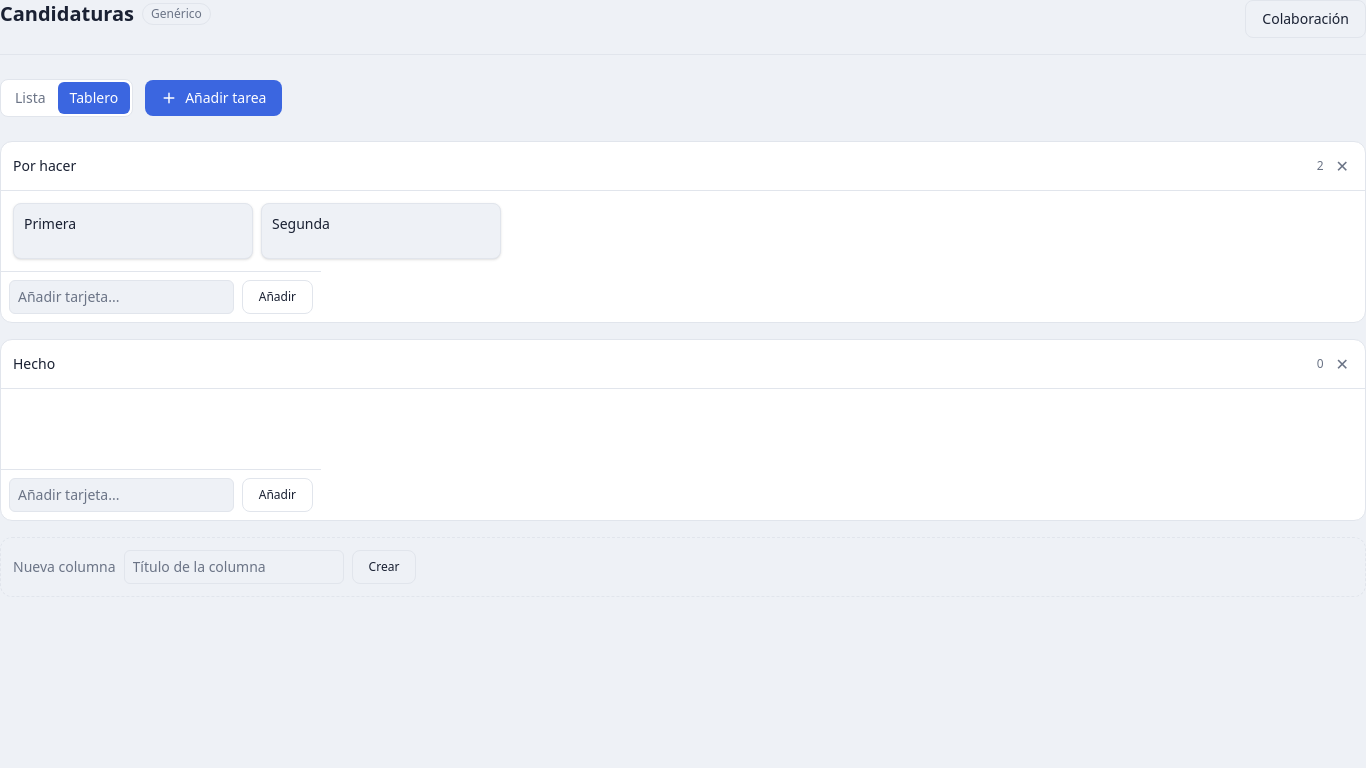
Test: BoardPage › borra una columna con confirmación, avisando de las tarjetas que se pierden
Check: the button "Por hacer" is shown, box left=13, top=156, right=1309, bottom=176
Click the button named "Borrar columna Por hacer": [1342, 166] box left=1332, top=150, right=1353, bottom=182
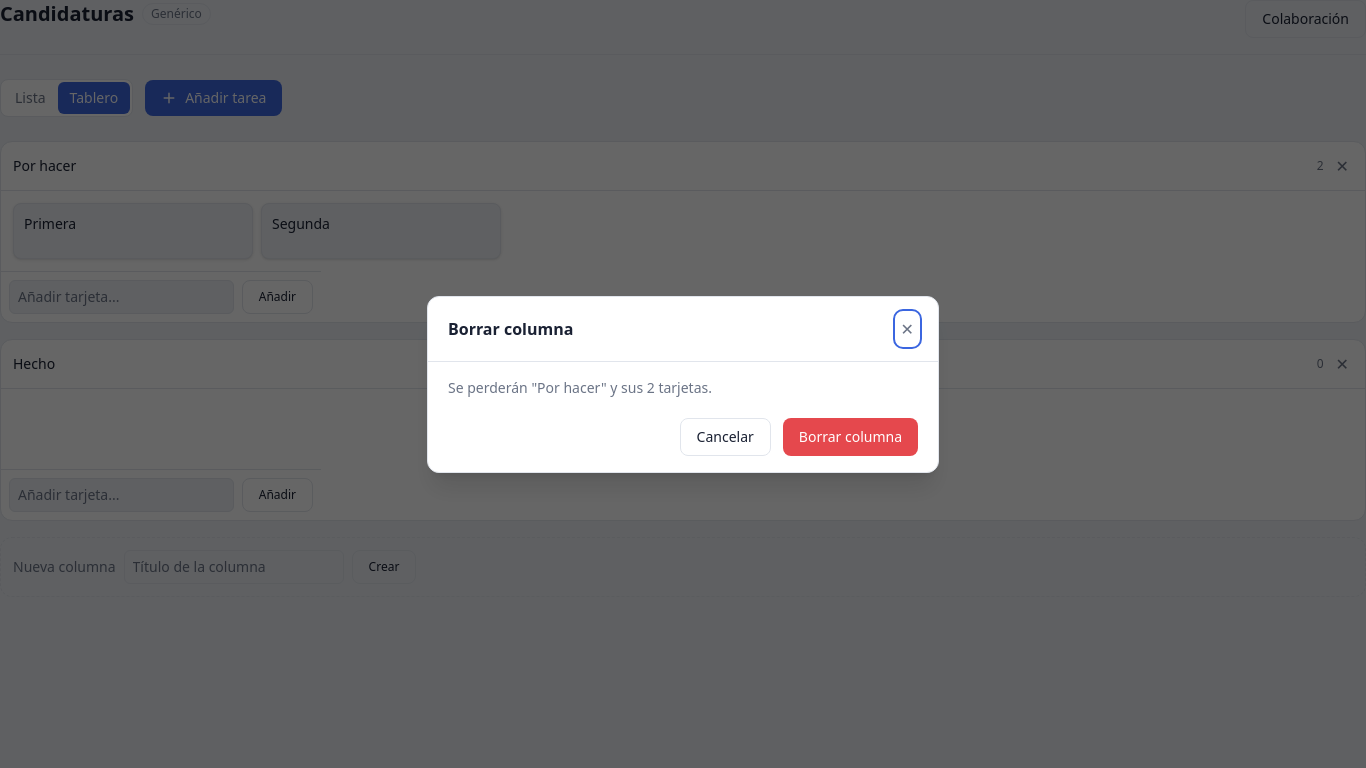
Check: the text "Se perderán \"Por hacer\" y sus 2 tarjetas." is shown, box left=448, top=378, right=712, bottom=396
Click the button "Borrar columna": [850, 436] box left=783, top=418, right=918, bottom=456
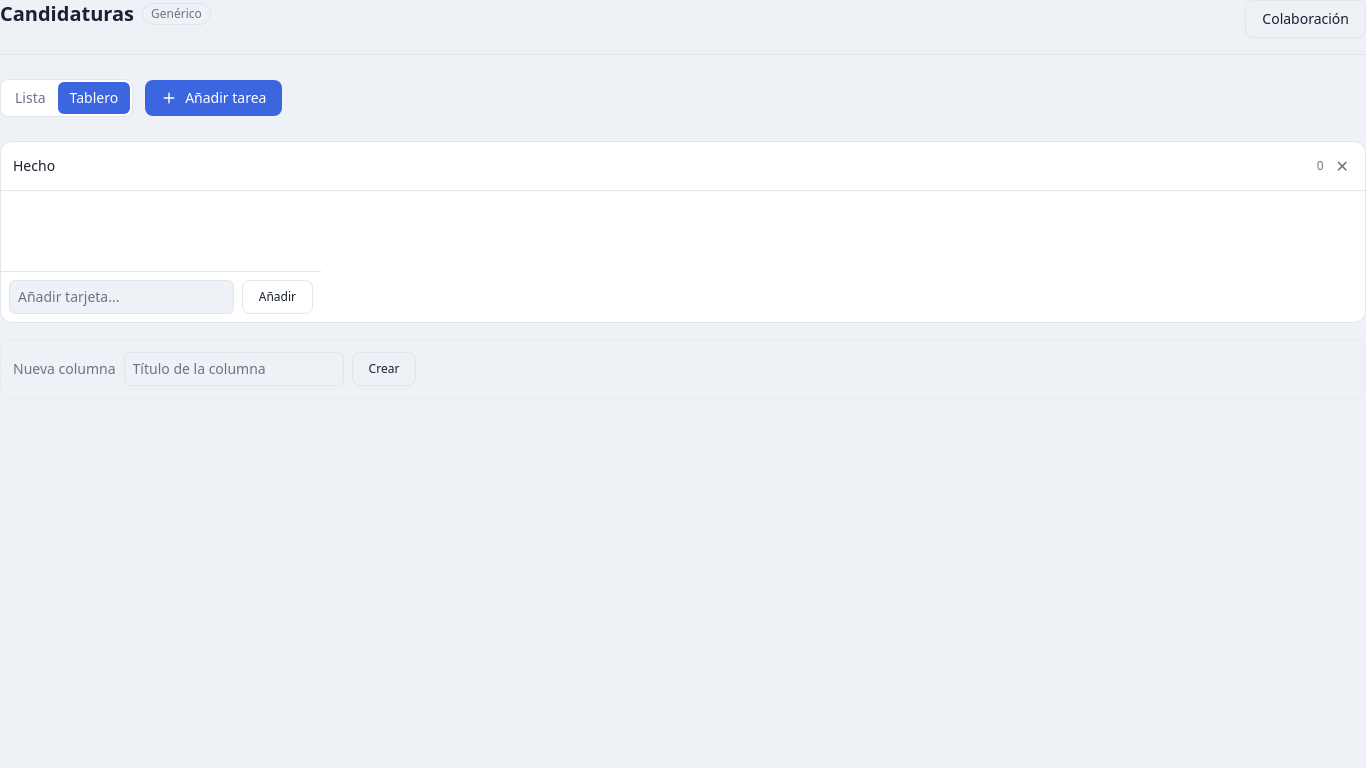
Check: the button "Hecho" is shown, box left=13, top=156, right=1309, bottom=176
Check: the button "Por hacer" is gone
